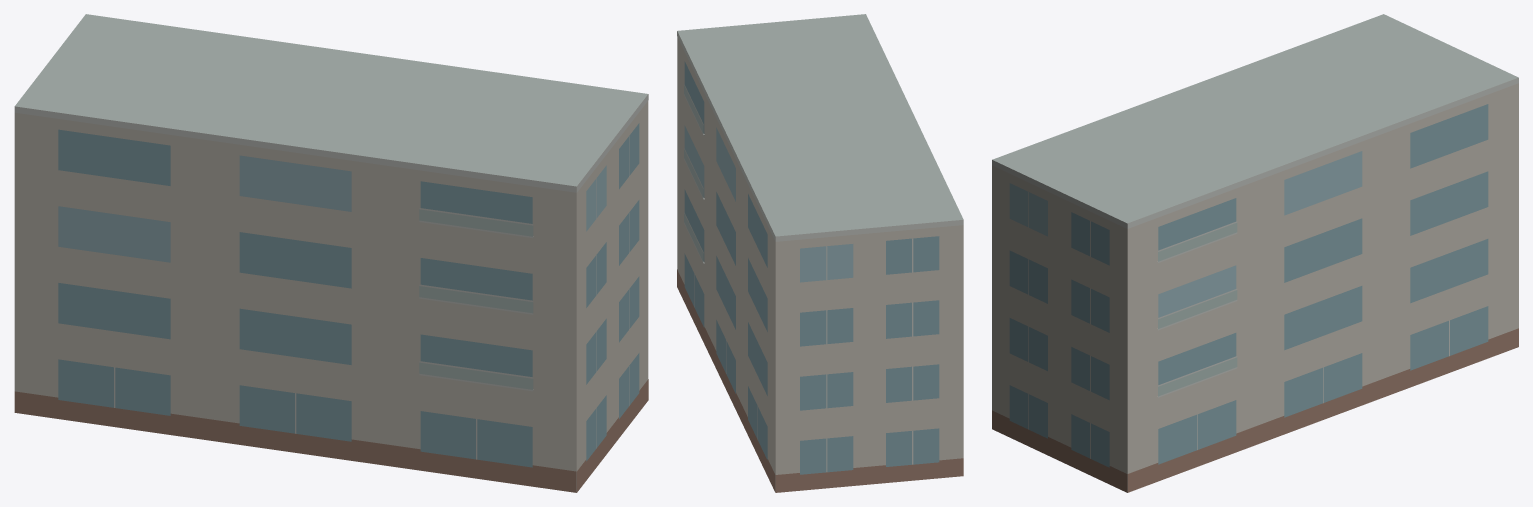
Rendered from survey-upis-32560353.glb.
3 renders of one model, left to right at view 1: azimuth 30°, elevation 25°; view 2: azimuth 150°, elevation 25°; view 3: azimuth 270°, elevation 25°, orthographic. The views are drawn at different scales.
Visible parts, largest first — view 1: survey-upis-32560353.tmp; view 2: survey-upis-32560353.tmp; view 3: survey-upis-32560353.tmp.
Part boxes in pixels (x1=…): survey-upis-32560353.tmp: x1=14, y1=14, x2=648, y2=492; survey-upis-32560353.tmp: x1=677, y1=14, x2=963, y2=492; survey-upis-32560353.tmp: x1=992, y1=14, x2=1518, y2=492.
Size of the model in its own units: 19.68 by 11.8 by 20.92.
